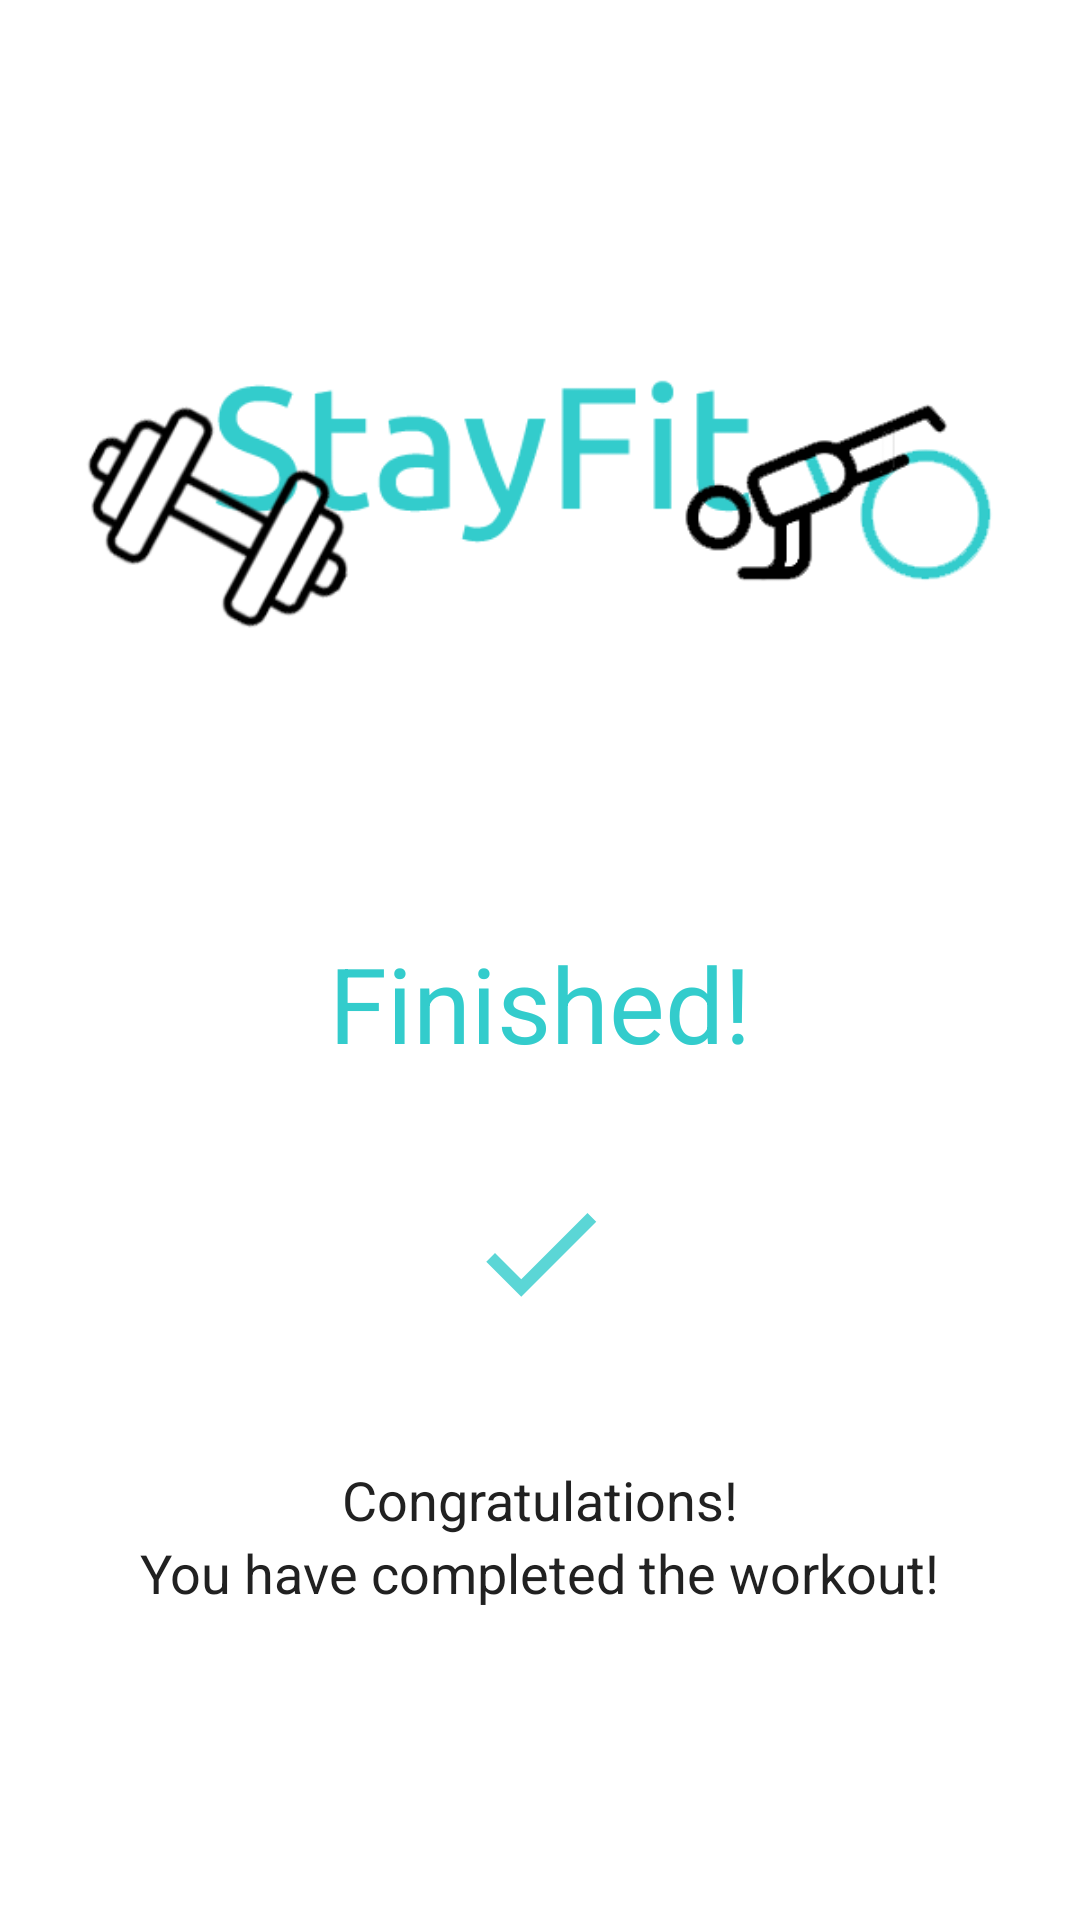

Where to tap for icons on this 1080w x 1920h app screen, as (x=x, y=y):
done: (x=541, y=1255)
